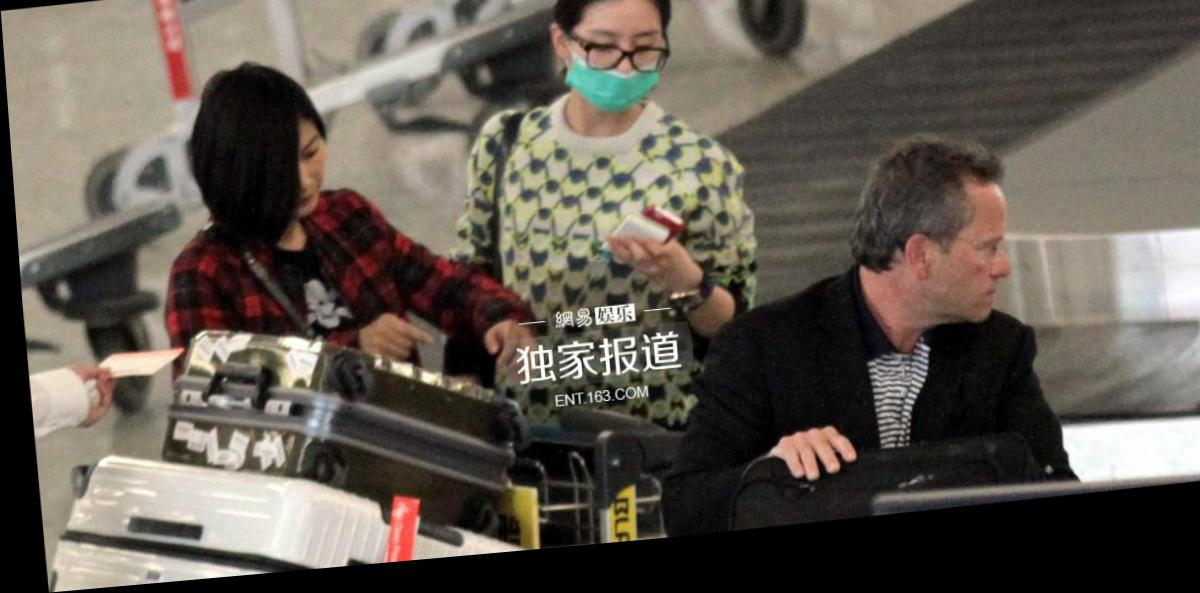NONE: (944, 228, 1014, 346), (255, 122, 332, 229)
WRONG: (560, 3, 665, 124)
